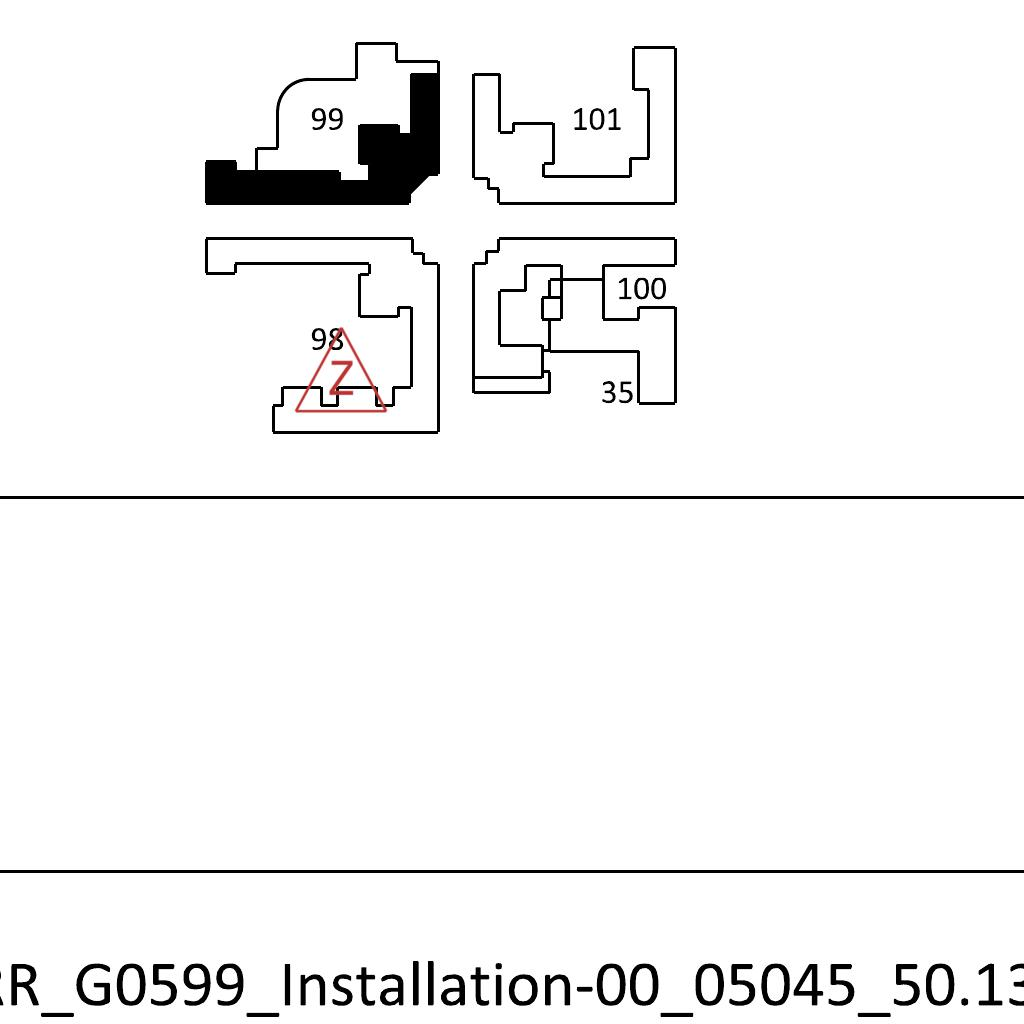Zimmersignalleuchte: (291, 320, 389, 420)
